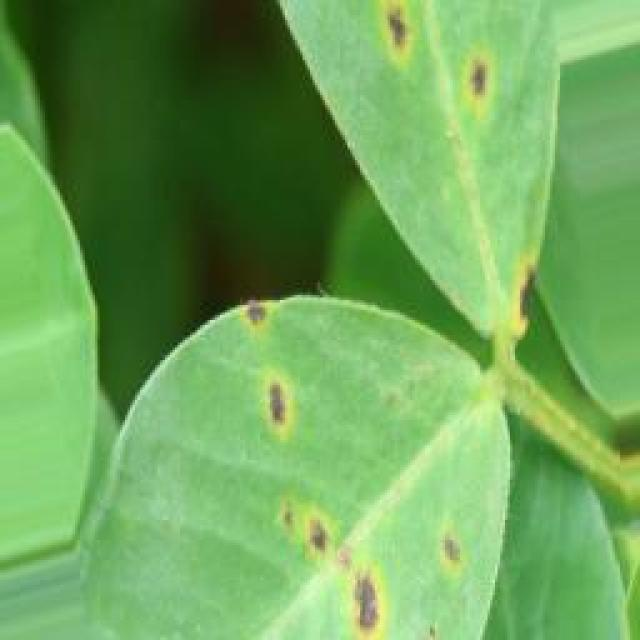Sigatoka: (243, 482, 396, 632), (226, 303, 303, 447), (433, 26, 526, 136), (430, 504, 503, 615), (363, 0, 423, 74)
